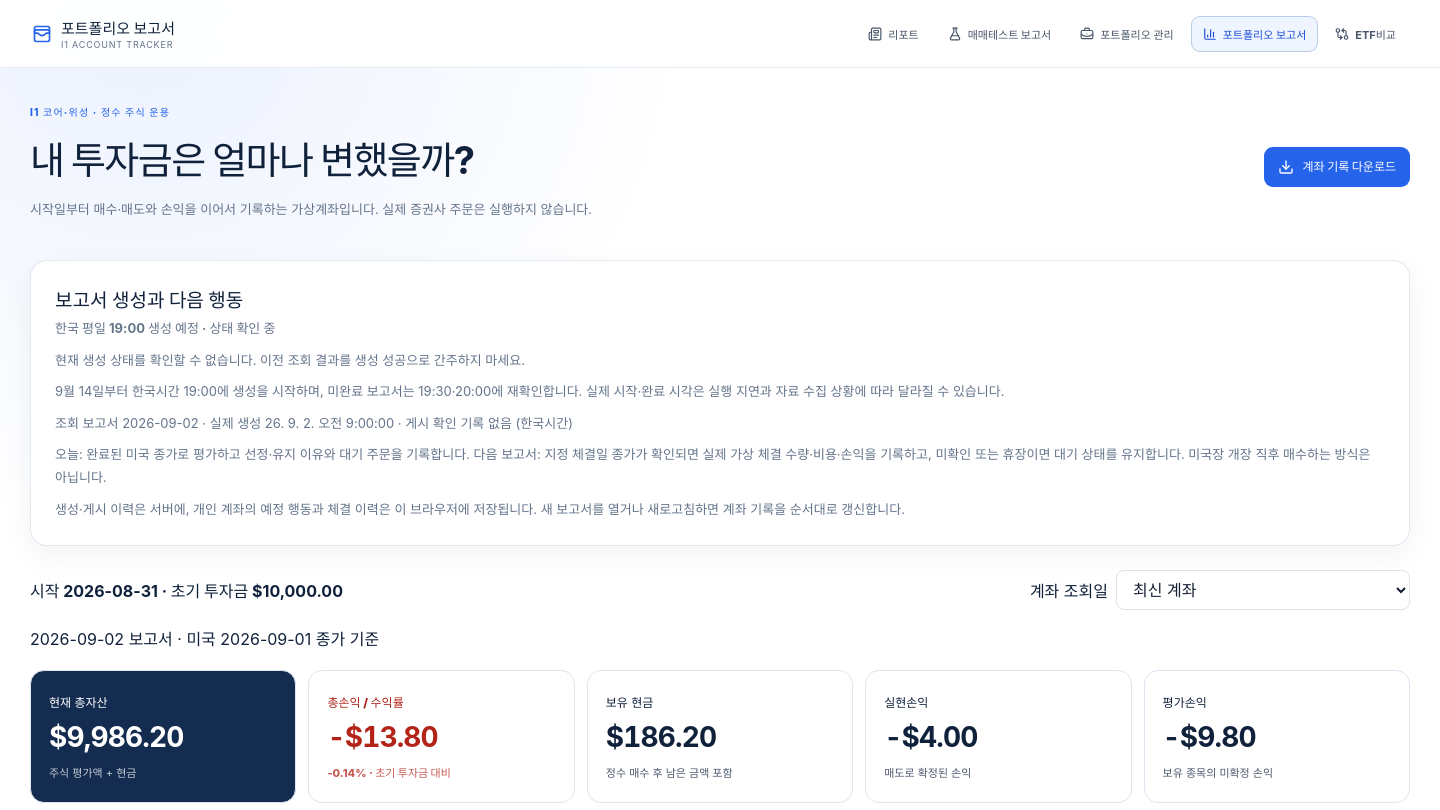
views the saved historical account rather than pricing today's holdings backwards
Select "2026-08-31 · 미국장 2026-08-28" in the dropdown labelled "계좌 조회일" at [1263, 590], box [1116,570,1410,610]
(page scrolled)
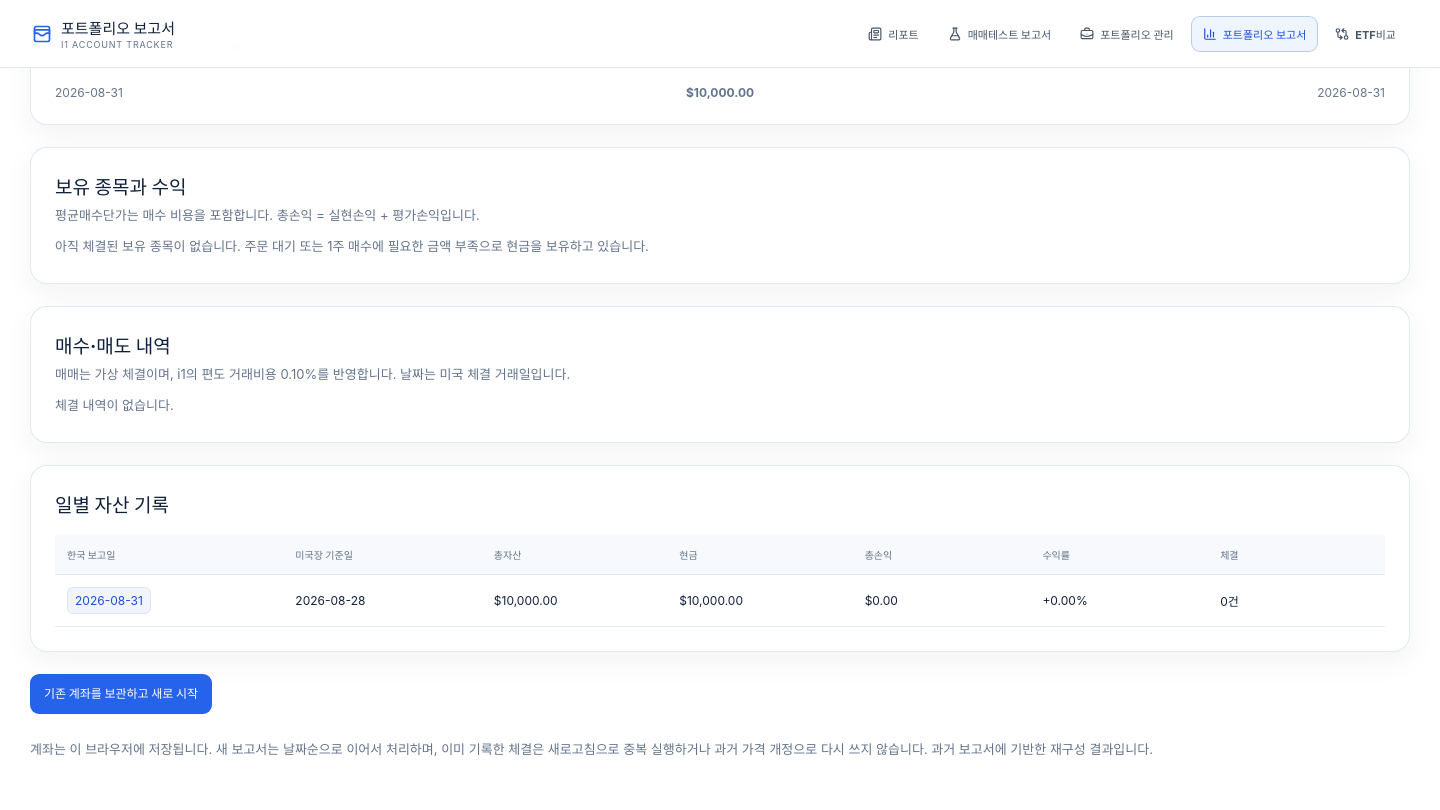
Expected: the text "아직 체결된 보유 종목이 없습니다" is shown, [55,238,649,254]
Expected: the text "체결 내역이 없습니다." is shown, [55,397,174,413]
